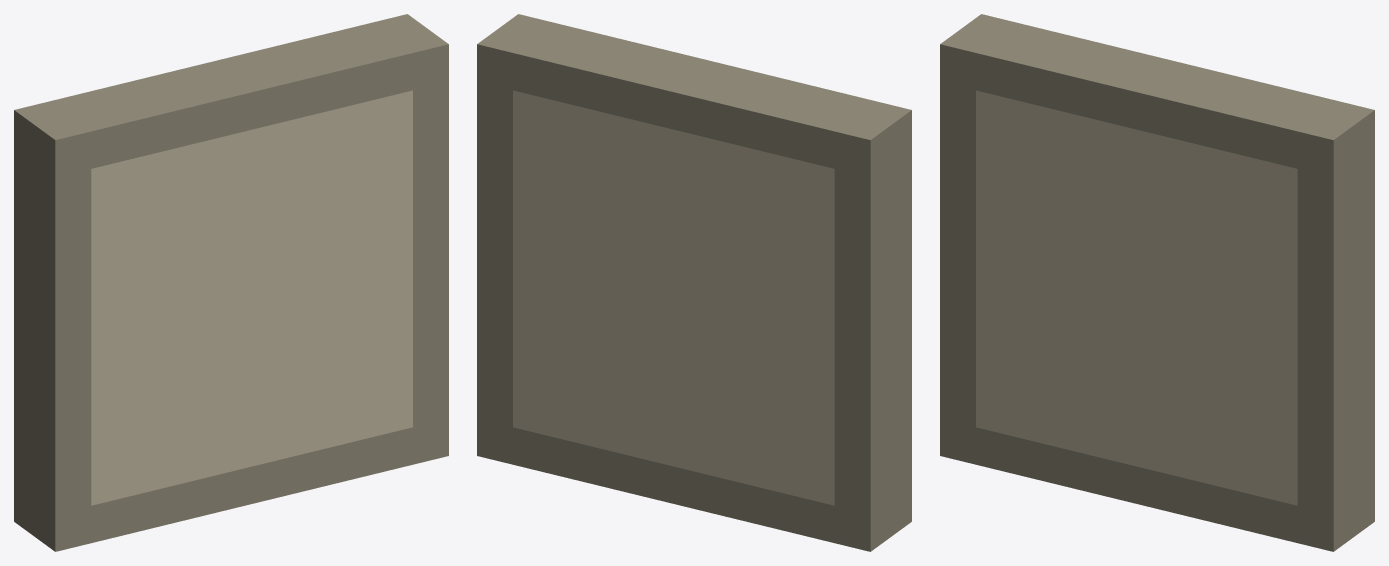
The model's file is mapa_rutas_maritimas_capitania_01.glb.
The picture shows the model from 3 angles, left to right: view 1: azimuth 30°, elevation 25°; view 2: azimuth 150°, elevation 25°; view 3: azimuth 330°, elevation 25°; orthographic projection.
Visible parts, largest first — view 1: mapa_rutas_maritimas_capitania; view 2: mapa_rutas_maritimas_capitania; view 3: mapa_rutas_maritimas_capitania.
Part boxes in pixels (x1,y1,x2,y2): mapa_rutas_maritimas_capitania: (14,14,448,551); mapa_rutas_maritimas_capitania: (477,14,911,551); mapa_rutas_maritimas_capitania: (940,14,1374,551).
Size of the model in its own units: 1 by 1 by 0.1818.
